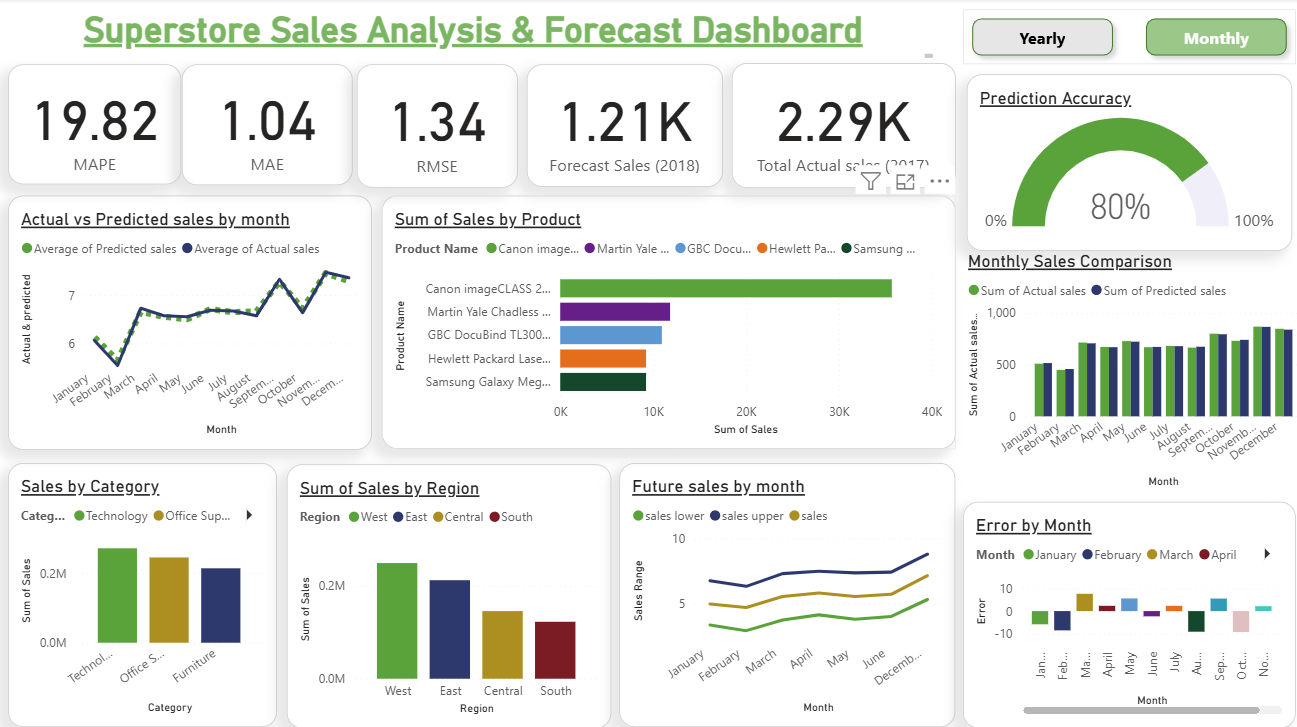

What the dashboard file says about the page in this screenshot:
{"tool":"powerbi","page":{"name":"Page 1","canvas":[1280,720],"ordinal":0},"visuals":[{"type":"shape","title":"Yearly","box":[943.8,10.4,155.7,54.3],"z":0,"group":"g1"},{"type":"lineChart","title":"Actual vs Predicted sales by month","fields":{"Y":["Avg(historical_and_forecast_sales.Predicted sales)","Avg(historical_and_forecast_sales.Actual sales)"],"Category":["historical_and_forecast_sales.Order Date.Variation.Date Hierarchy.Month"]},"box":[10,192.9,355.7,248.6],"z":0},{"type":"shape","title":"Monthly","box":[1113.8,10.4,155.7,54.3],"z":1000,"group":"g2"},{"type":"lineChart","title":"Future sales by month","fields":{"Y":["Min(future_forecasted_sales.sales lower)","Min(future_forecasted_sales.sales upper)","Min(future_forecasted_sales.future sales)"],"Category":["future_forecasted_sales.future order date.Variation.Date Hierarchy.Month"]},"box":[607.7,454.9,328.9,258],"z":3000},{"type":"columnChart","title":"Error by Month","fields":{"Y":["Measures_table.Error"],"Series":["historical_and_forecast_sales.Order Date.Variation.Date Hierarchy.Month"],"Category":["historical_and_forecast_sales.Order Date.Variation.Date Hierarchy.Month"]},"box":[944,492.8,325.3,221.3],"z":4000},{"type":"card","fields":{"Values":["Sum(future_forecasted_sales.future sales)"]},"box":[517.3,64.8,192,119.8],"z":7000},{"type":"card","fields":{"Values":["Sum(historical_and_forecast_sales.Actual sales)"]},"box":[717.8,63.6,218.9,122.3],"z":8000},{"type":"card","fields":{"Values":["Sum(forecast_metrics.MAE)"]},"box":[179.8,64.8,167.5,118.6],"z":9000},{"type":"card","fields":{"Values":["Sum(forecast_metrics.MAPE)"]},"box":[9.8,64.8,170,117.4],"z":10000},{"type":"card","fields":{"Values":["Sum(forecast_metrics.RMSE)"]},"box":[351,64.8,157.7,121.1],"z":11000},{"type":"textbox","title":"Superstore Sales Analysis & Forecast Dashboard ","box":[10,10,910,54],"z":12000},{"type":"gauge","fields":{"Y":["Measures_table.Prediction Accuracy"]},"box":[947.1,74.3,318.6,172.9],"z":13000},{"type":"group","id":"g1","title":"In Active buttons","box":[943.8,10.4,325.7,54.3],"z":15000},{"type":"group","id":"g2","title":"Active buttons","box":[943.8,10.4,325.7,54.3],"z":16000},{"type":"barChart","title":"Sum of Sales by Product","fields":{"Category":["Superstore-DataSet.Product Name"],"Y":["Sum(Superstore-DataSet.Sales)"],"Series":["Superstore-DataSet.Product Name"]},"box":[375.4,193.2,561.3,248.2],"z":17000},{"type":"clusteredColumnChart","title":"Monthly Sales Comparison","fields":{"Category":["historical_and_forecast_sales.Order Date.Variation.Date Hierarchy.Month"],"Y":["Sum(historical_and_forecast_sales.Actual sales)","Sum(historical_and_forecast_sales.Predicted sales)"]},"box":[944,247,336.3,237.2],"z":20000},{"type":"columnChart","title":"Sales by Category","fields":{"Category":["Superstore-DataSet.Category"],"Y":["Sum(Superstore-DataSet.Sales)"],"Series":["Superstore-DataSet.Category"]},"box":[9.8,454.9,262.9,258],"z":21000},{"type":"columnChart","title":"Sum of Sales by Region","fields":{"Category":["Superstore-DataSet.Region"],"Y":["Sum(Superstore-DataSet.Sales)"],"Series":["Superstore-DataSet.Region"]},"box":[282.5,456.1,317.9,258],"z":22000}]}

Visuals, with their boxes in screenshot pixels (x1, y1, x2, y2), scaled from the page's 1280x720 canvas onto the 1297x727 screenshot:
"Yearly" shape: box(956, 11, 1114, 65)
"Actual vs Predicted sales by month" lineChart: box(10, 195, 371, 446)
"Monthly" shape: box(1129, 11, 1286, 65)
"Future sales by month" lineChart: box(616, 459, 949, 720)
"Error by Month" columnChart: box(957, 498, 1286, 721)
card - Sum(future_forecasted_sales.future sales): box(524, 65, 719, 186)
card - Sum(historical_and_forecast_sales.Actual sales): box(727, 64, 949, 188)
card - Sum(forecast_metrics.MAE): box(182, 65, 352, 185)
card - Sum(forecast_metrics.MAPE): box(10, 65, 182, 184)
card - Sum(forecast_metrics.RMSE): box(356, 65, 515, 188)
"Superstore Sales Analysis & Forecast Dashboard " textbox: box(10, 10, 932, 65)
gauge - Measures_table.Prediction Accuracy: box(960, 75, 1283, 250)
"In Active buttons" group: box(956, 11, 1286, 65)
"Active buttons" group: box(956, 11, 1286, 65)
"Sum of Sales by Product" barChart: box(380, 195, 949, 446)
"Monthly Sales Comparison" clusteredColumnChart: box(957, 249, 1296, 489)
"Sales by Category" columnChart: box(10, 459, 276, 720)
"Sum of Sales by Region" columnChart: box(286, 461, 608, 721)
